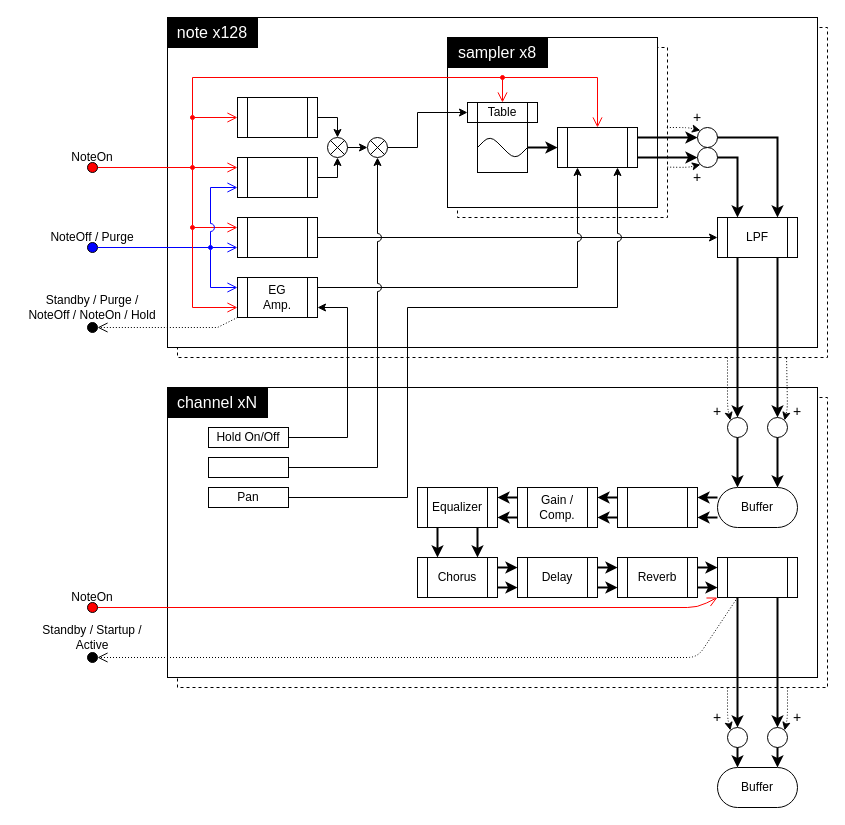
Image size: 845x825. Some labels were removed from this diagram. The shapes that lost their labels are listed below. From the top down, each one's box as (x1, y1, x2, y2) in pixels, then its label:
(236, 96, 318, 138): LFO Pitch
(556, 126, 638, 168): Amp./ Pan
(236, 156, 318, 198): EG Pitch
(236, 216, 318, 258): EG LPF
(208, 456, 288, 478): Pitch
(616, 486, 698, 528): PreGain / Filter
(716, 556, 798, 598): Meter / Status
